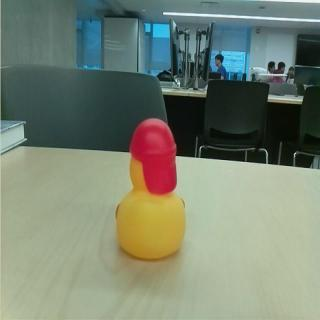duck_specialty: (115, 117, 189, 261)
